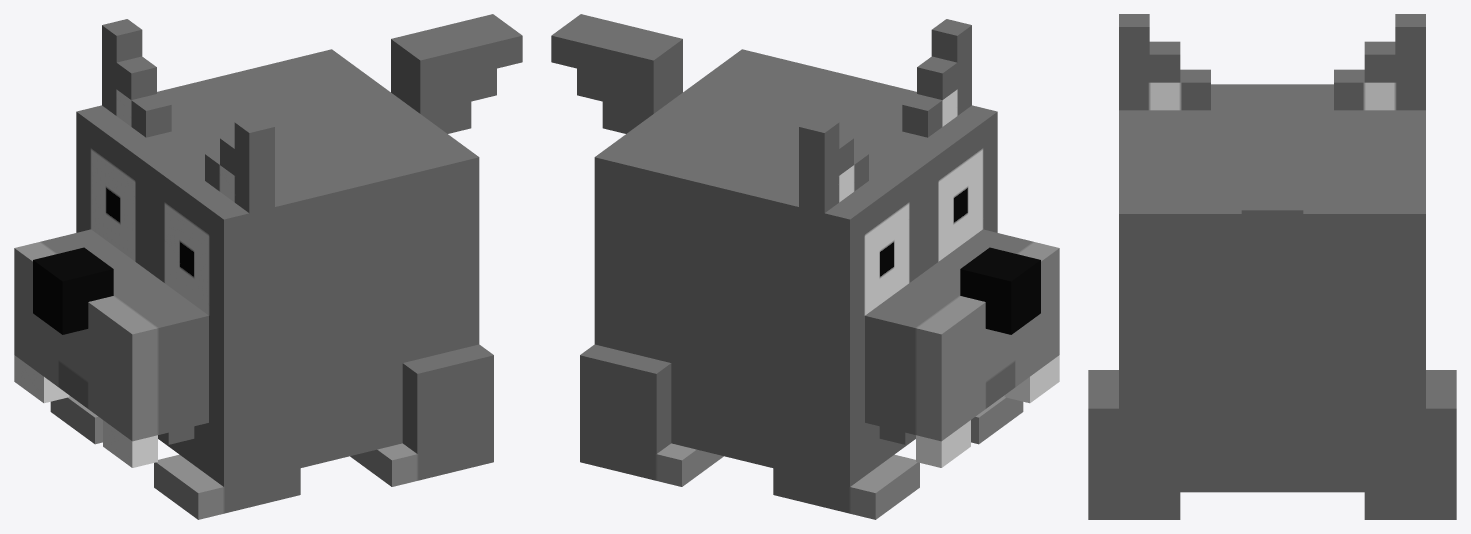
Rendered from denti_ANI.FBX.
3 views of the same model, side by side, from view 1: azimuth 30°, elevation 25°; view 2: azimuth 150°, elevation 25°; view 3: azimuth 270°, elevation 25° (orthographic). The views are drawn at different scales.
Visible parts, largest first — view 1: Compound; view 2: Compound; view 3: Compound.
Part boxes in pixels (x1,y1,x2,y2): Compound: [14, 14, 522, 519]; Compound: [551, 14, 1059, 519]; Compound: [1088, 14, 1456, 519].
Bounding box in the file's own units: 180 × 140 × 120.
